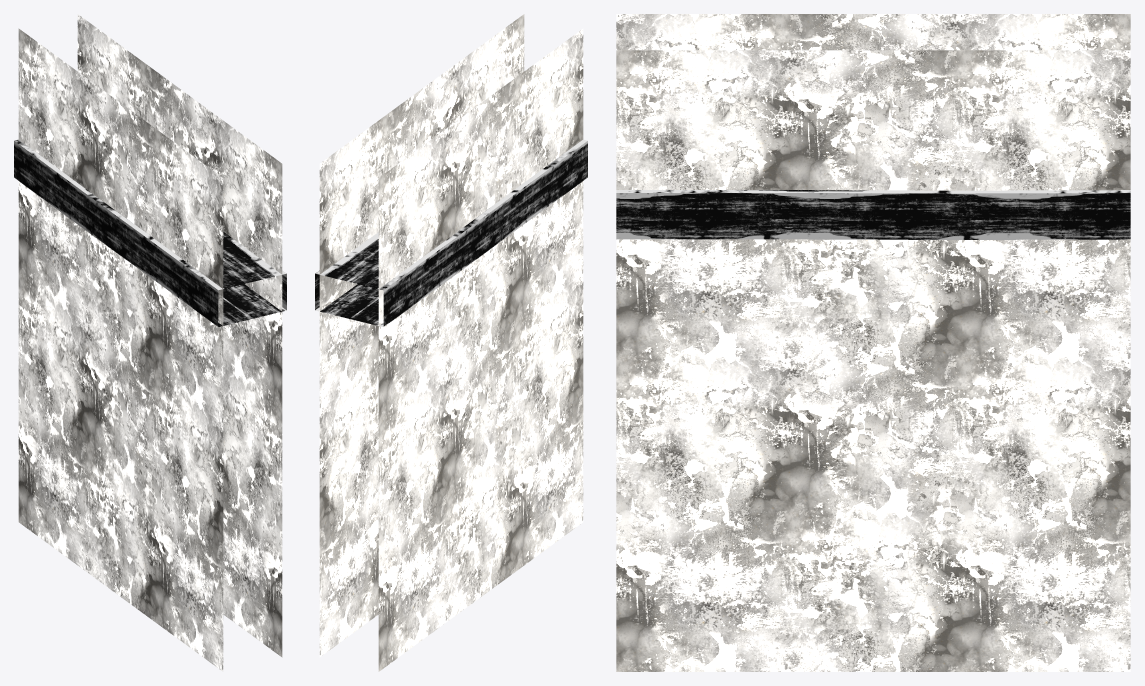
File: SM_wall_A_3x4_01_02.fbx
The picture shows the model from 3 angles, left to right: view 1: azimuth 30°, elevation 25°; view 2: azimuth 150°, elevation 25°; view 3: azimuth 270°, elevation 25°; orthographic projection. The views are drawn at different scales.
Parts seen in each view (by area): view 1: SM_wall_A_3x4_01_02_LOD0; view 2: SM_wall_A_3x4_01_02_LOD0; view 3: SM_wall_A_3x4_01_02_LOD0.
Part boxes in pixels (x1=…): SM_wall_A_3x4_01_02_LOD0: x1=14, y1=14, x2=286, y2=671; SM_wall_A_3x4_01_02_LOD0: x1=315, y1=14, x2=587, y2=671; SM_wall_A_3x4_01_02_LOD0: x1=616, y1=14, x2=1130, y2=671.
Bounding box in the file's own units: 58 × 300 × 400.
Materials: 3 (3 with a texture image).
